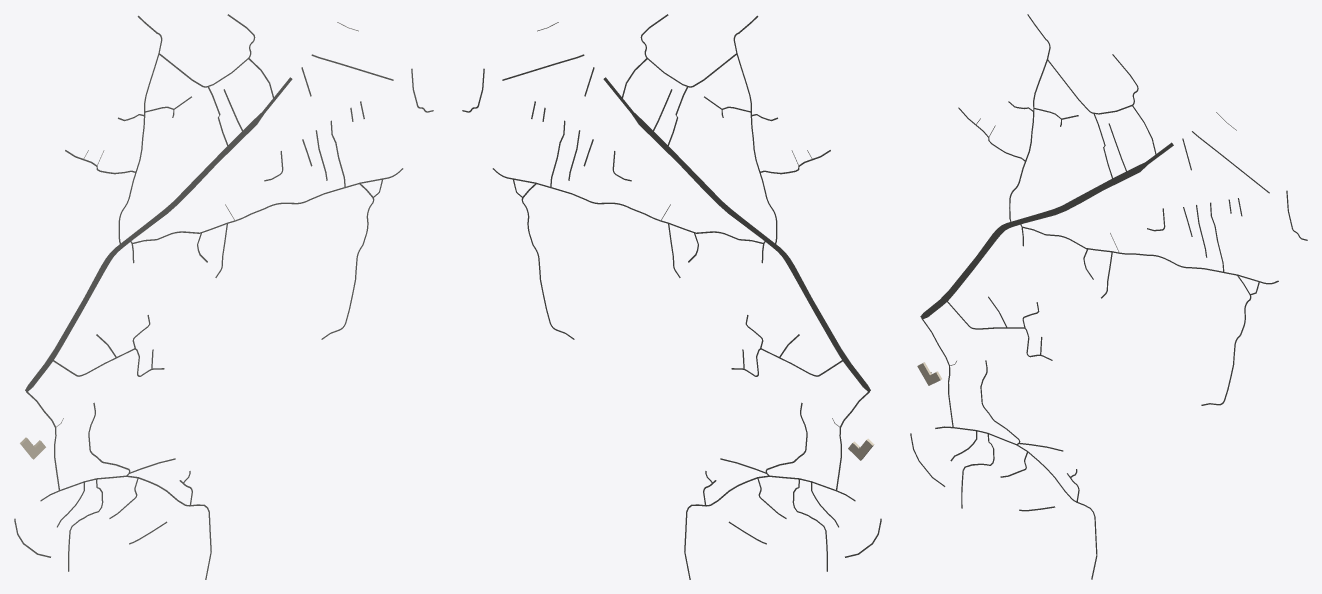
Rendered from historic-palestine-08_20_3498_3141.glb.
3 renders of one model, left to right at view 1: azimuth 30°, elevation 25°; view 2: azimuth 150°, elevation 25°; view 3: azimuth 330°, elevation 25°, orthographic. The views are drawn at different scales.
Visible parts, largest first — view 1: Road شارع رئيسي, Road شارع رئيسي.002, Road .038; view 2: Road شارع رئيسي, Road شارع رئيسي.002, Road .038; view 3: Road شارع رئيسي, Road شارع رئيسي.002, Road .038.
Boxes of the visible parts, left/top/right/bottom form: Road شارع رئيسي: left=25, top=113, right=264, bottom=392; Road شارع رئيسي.002: left=25, top=112, right=263, bottom=390; Road .038: left=133, top=168, right=403, bottom=243; Road شارع رئيسي: left=631, top=113, right=870, bottom=391; Road شارع رئيسي.002: left=632, top=112, right=870, bottom=391; Road .038: left=492, top=168, right=762, bottom=243; Road شارع رئيسي: left=921, top=163, right=1147, bottom=319; Road شارع رئيسي.002: left=920, top=162, right=1145, bottom=318; Road .038: left=1022, top=226, right=1278, bottom=284.
Bounding box in the file's own units: 1006 × 1331 × 8.7.
